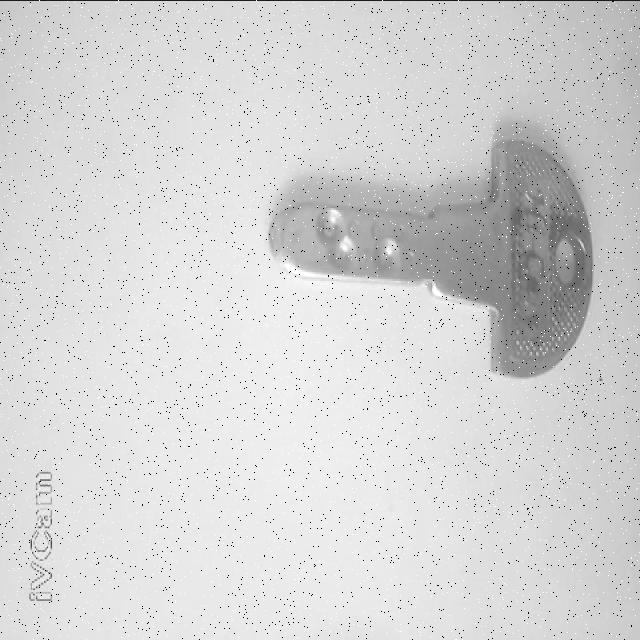key: (269, 140, 593, 376)
